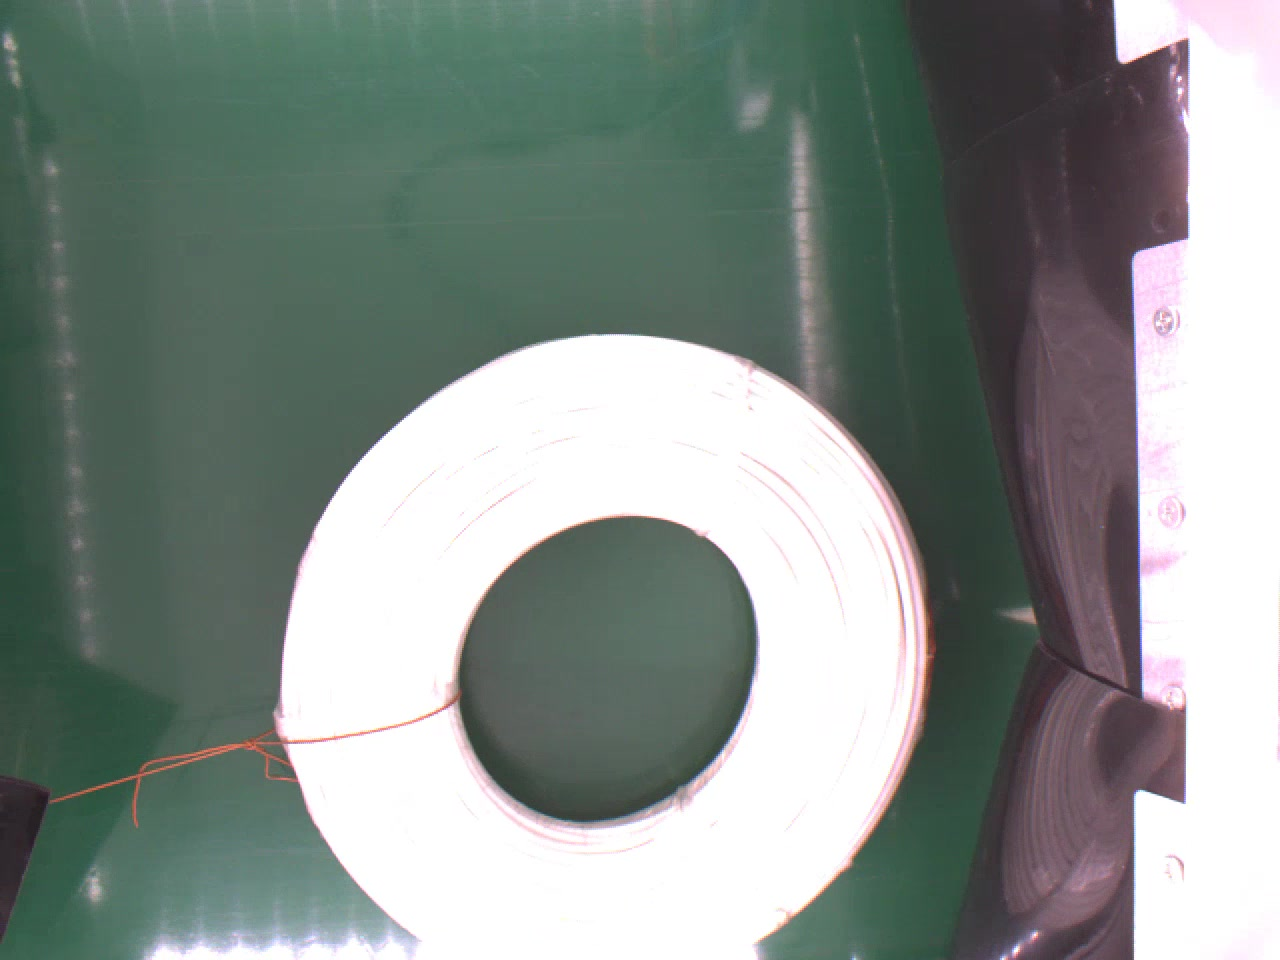white: (270, 337, 946, 960)
